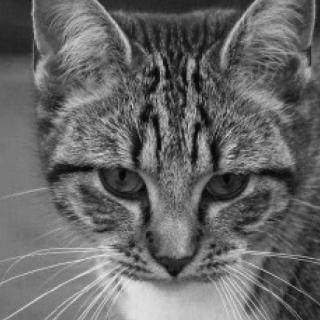cat: (27, 0, 320, 297)
nose: (143, 230, 200, 287)
